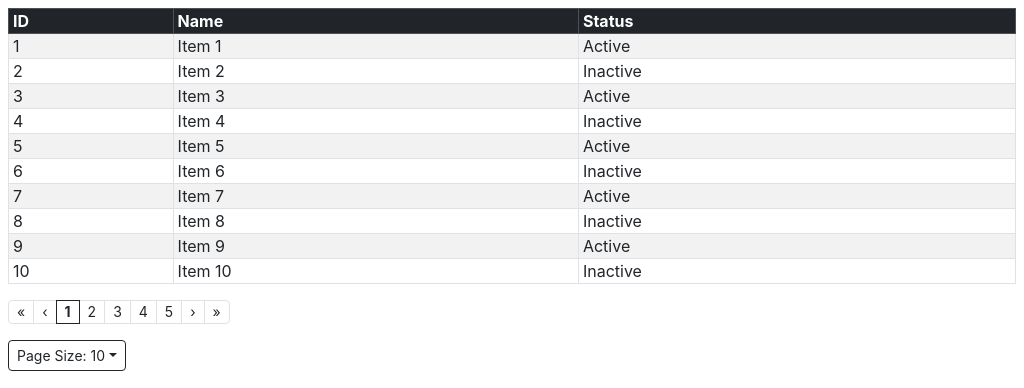
Test: KopiaTable › Pagination › navigates to specific page number
// Click on page number 4 - using role button to be more specific
What coordinates should you click on to do the following:
click the button "4"
I would click on:
 (143, 312)
Its box is [130,300,157,324].
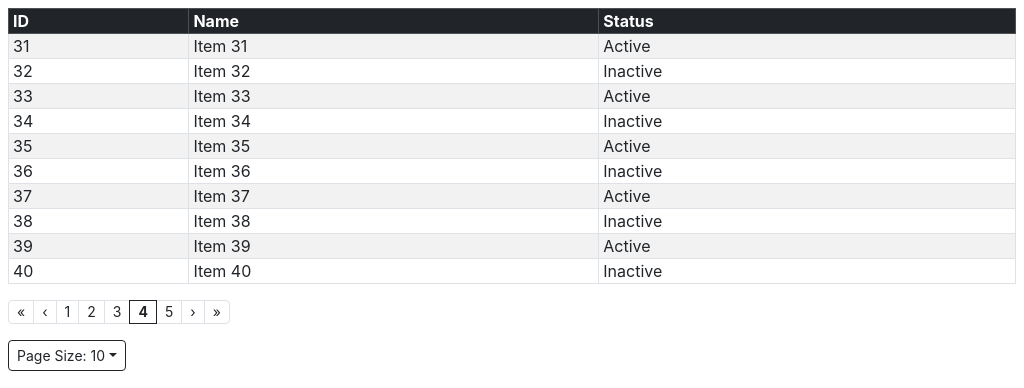
Check: the text "Item 31" is shown, box [189,34,599,58]
Check: the text "Item 40" is shown, box [189,258,599,284]
